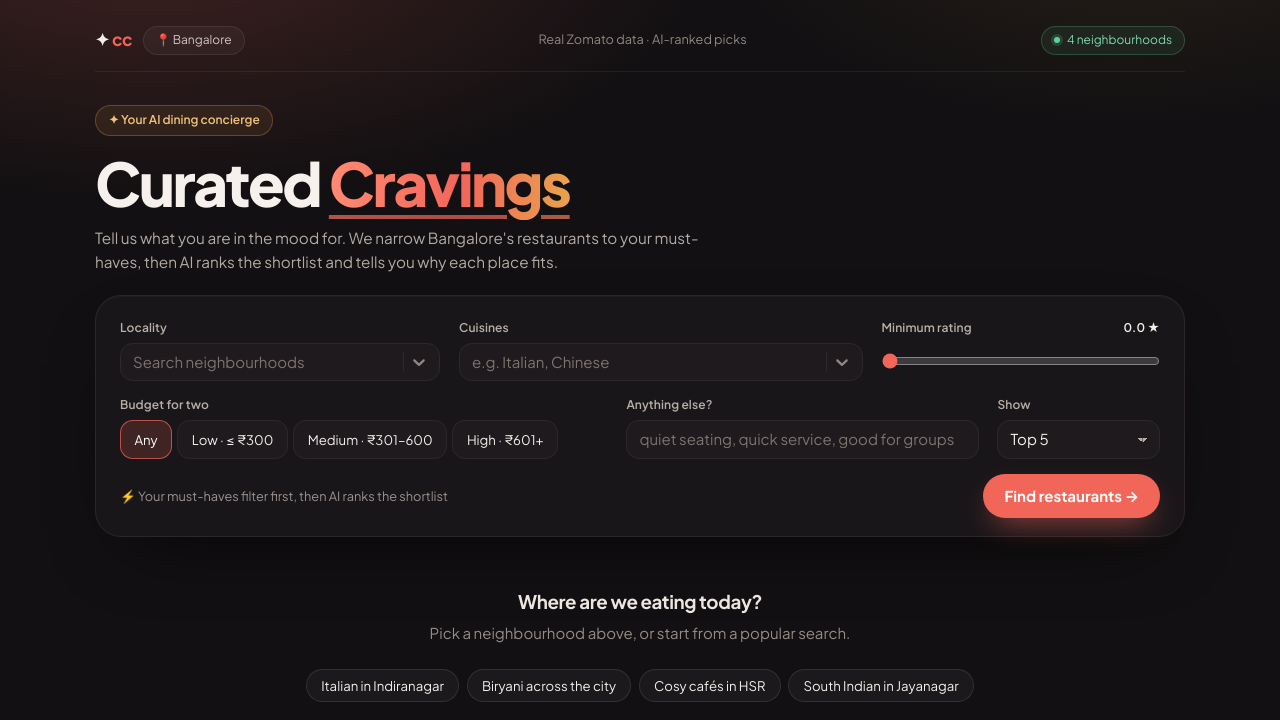
Test: searching › labels a fallback ranking and shows no banner (EC-UI-11)
The image size is (1280, 720).
Check: the button "Find restaurants →" is shown, box [983,474,1160,518]
Click the button "Italian in Indiranagar": coordinates (383, 686) [306,669,459,702]
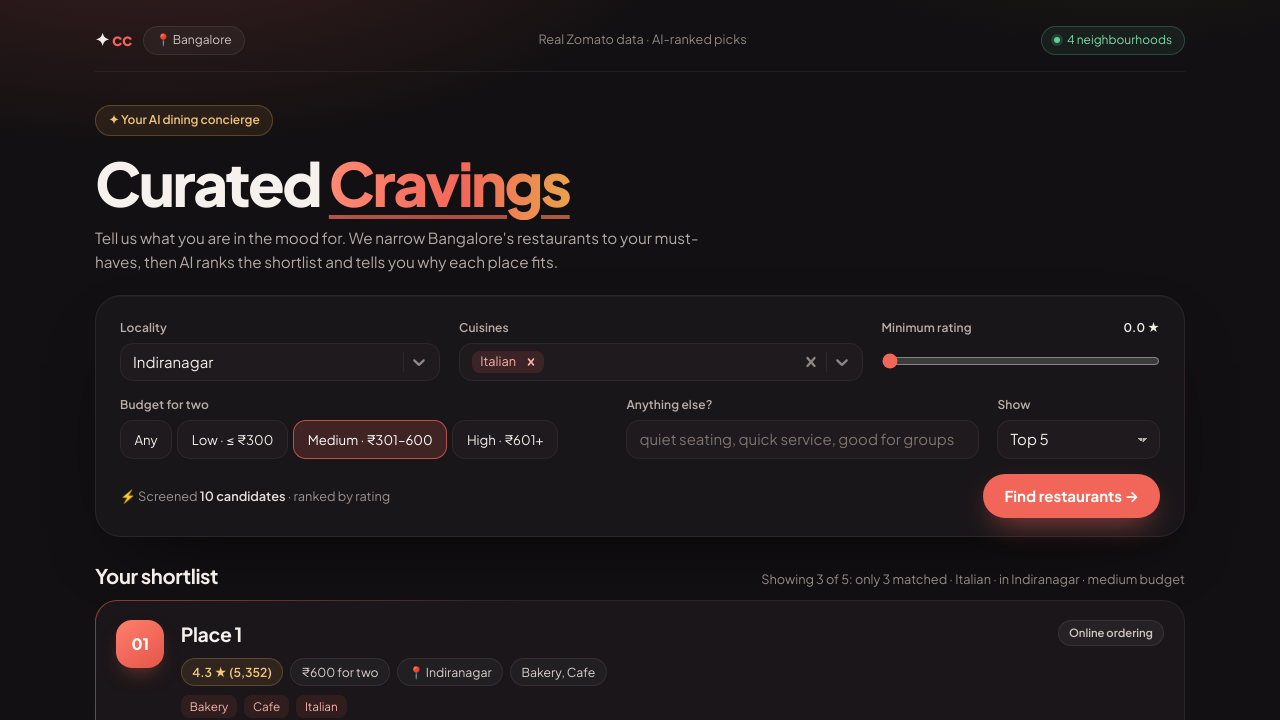
Check: the number of elements with class "cc-card" is 3
Check: the text "⚡ Screened 10 candidates · ranked by rating" is shown, box [120,487,390,506]
